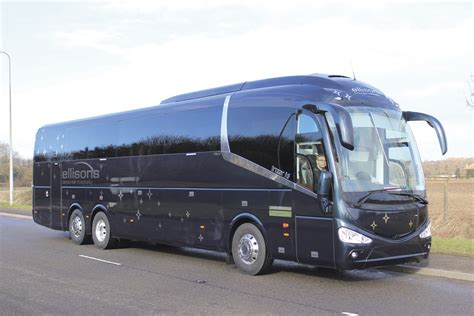bus: (37, 88, 432, 271)
person: (312, 156, 328, 185)
